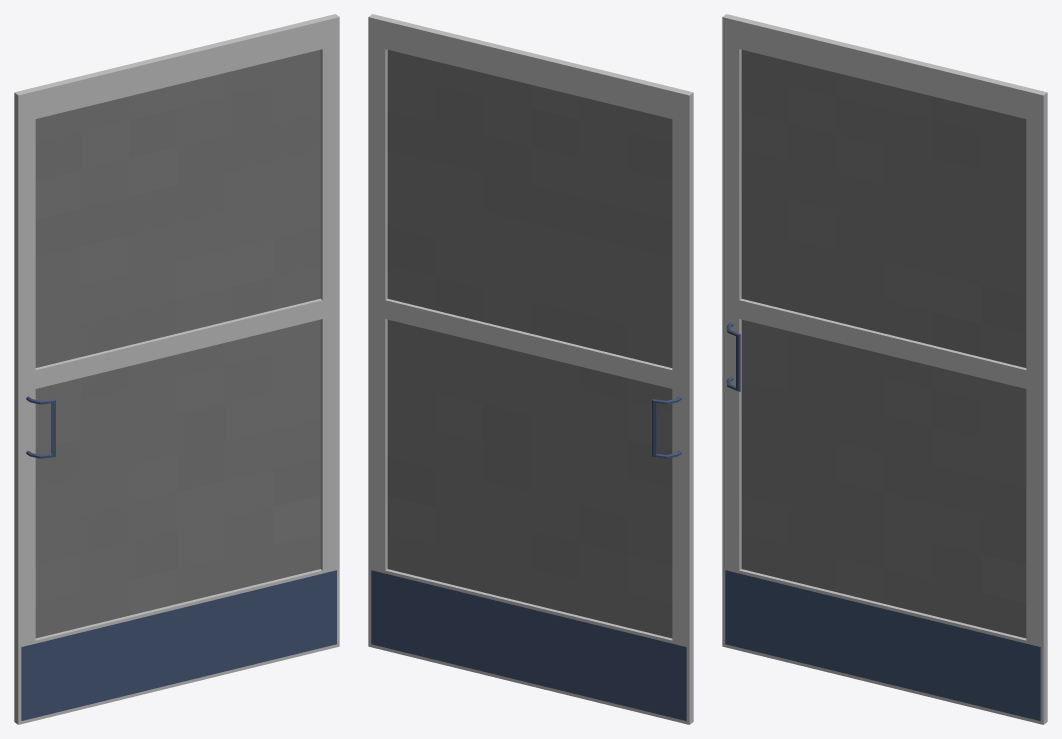
Rendered from SW_corridor__R_lobby_R_Aula_Ovi_018.FBX.
The picture shows the model from 3 angles, left to right: view 1: azimuth 30°, elevation 25°; view 2: azimuth 150°, elevation 25°; view 3: azimuth 330°, elevation 25°; orthographic projection.
Parts seen in each view (by area): view 1: SW_corridor__R_lobby_R_Aula_Ovi_018; view 2: SW_corridor__R_lobby_R_Aula_Ovi_018; view 3: SW_corridor__R_lobby_R_Aula_Ovi_018.
Part boxes in pixels (x1,y1,x2,y2): SW_corridor__R_lobby_R_Aula_Ovi_018: (14,14,339,724); SW_corridor__R_lobby_R_Aula_Ovi_018: (368,14,693,724); SW_corridor__R_lobby_R_Aula_Ovi_018: (722,14,1047,724).
Bounding box in the file's own units: 110 × 14.61 × 205.
